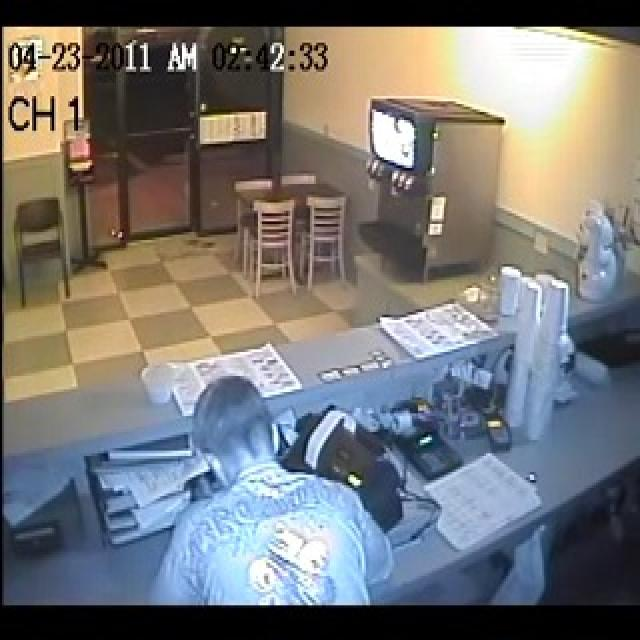thief: (145, 366, 395, 605)
